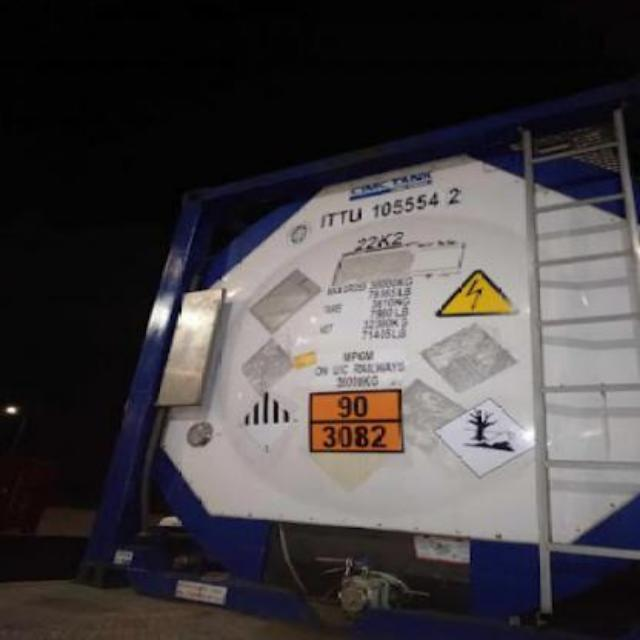0: (382, 200, 392, 220)
1: (370, 202, 380, 220)
2: (446, 186, 462, 204)
4: (428, 190, 440, 210)
5: (392, 198, 404, 218), (416, 194, 428, 212), (404, 196, 416, 214)
I: (318, 213, 328, 231)
T: (336, 208, 349, 228), (326, 209, 338, 227)
U: (348, 206, 364, 224)
